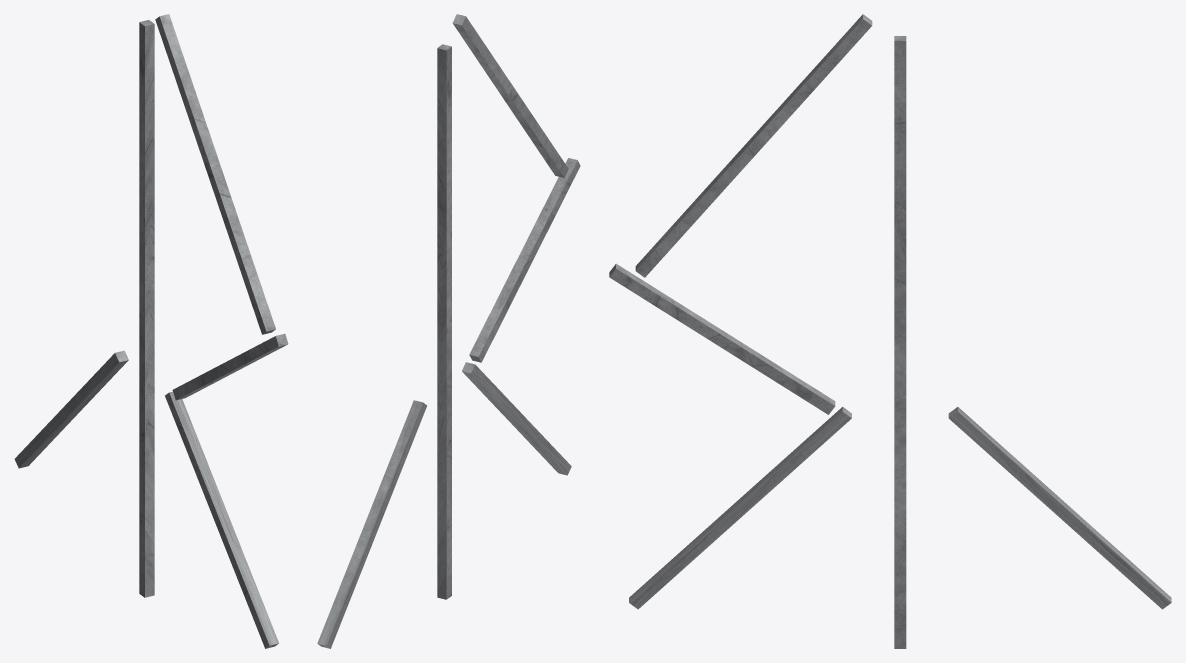
The model's file is Rhaqim.glb.
The picture shows the model from 3 angles, left to right: view 1: azimuth 30°, elevation 25°; view 2: azimuth 150°, elevation 25°; view 3: azimuth 270°, elevation 25°; orthographic projection. The views are drawn at different scales.
Parts seen in each view (by area): view 1: Cube.003; view 2: Cube.003; view 3: Cube.003.
Boxes of the visible parts, x1,y1,x2,y2 form: Cube.003: [14, 14, 288, 648]; Cube.003: [317, 14, 580, 648]; Cube.003: [609, 14, 1171, 648].
Size of the model in its own units: 0.0375 by 2.19 by 1.77.
4 materials, 4 textured.
